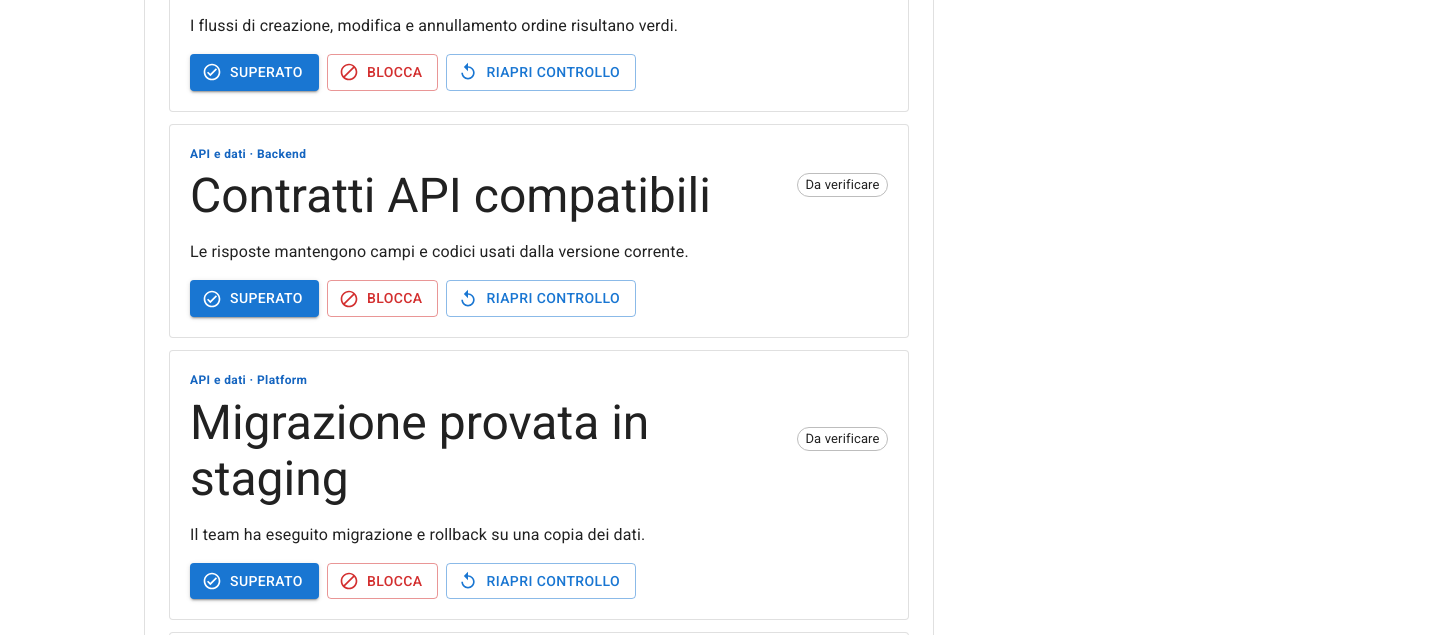
Test case: filtra i controlli senza modificare la review
The image size is (1440, 635).
(page scrolled)
Click the button with aria-label "Segna come bloccato: Contratti API compatibili": point(383, 299) top-left (327, 280), bottom-right (438, 317)
(page scrolled)
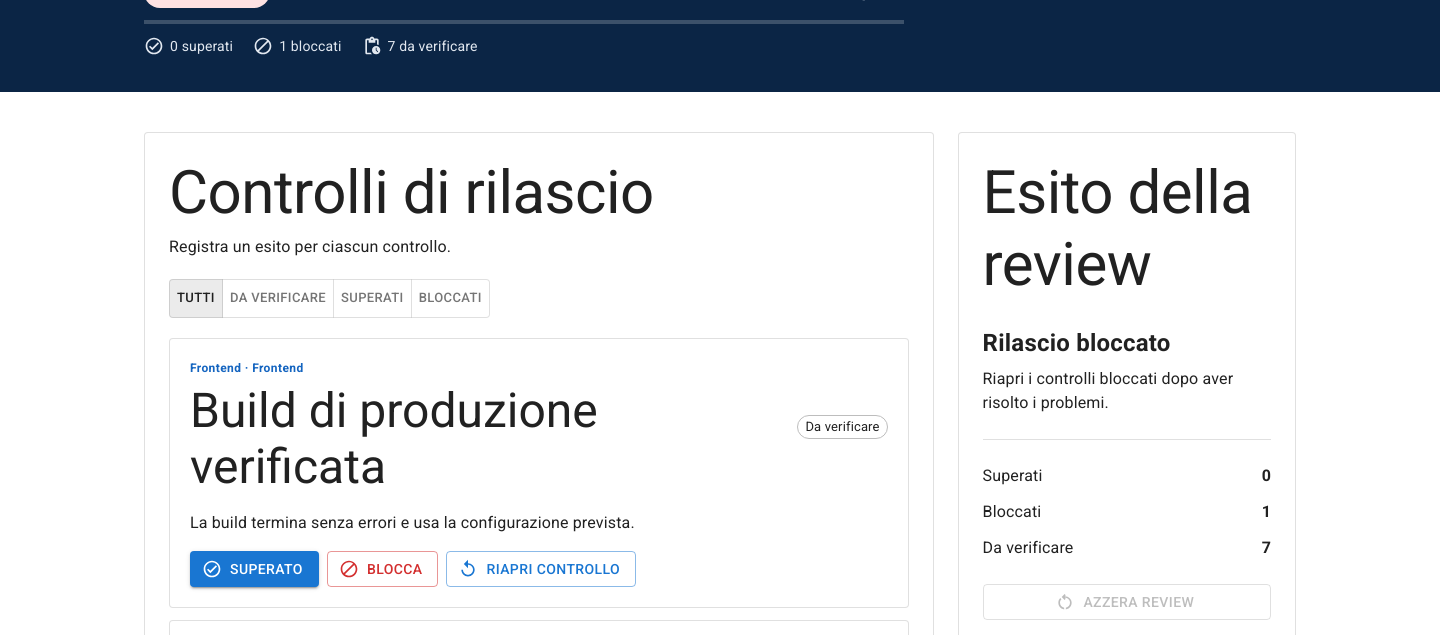
Click the button "Bloccati": point(450, 298) top-left (411, 279), bottom-right (490, 318)
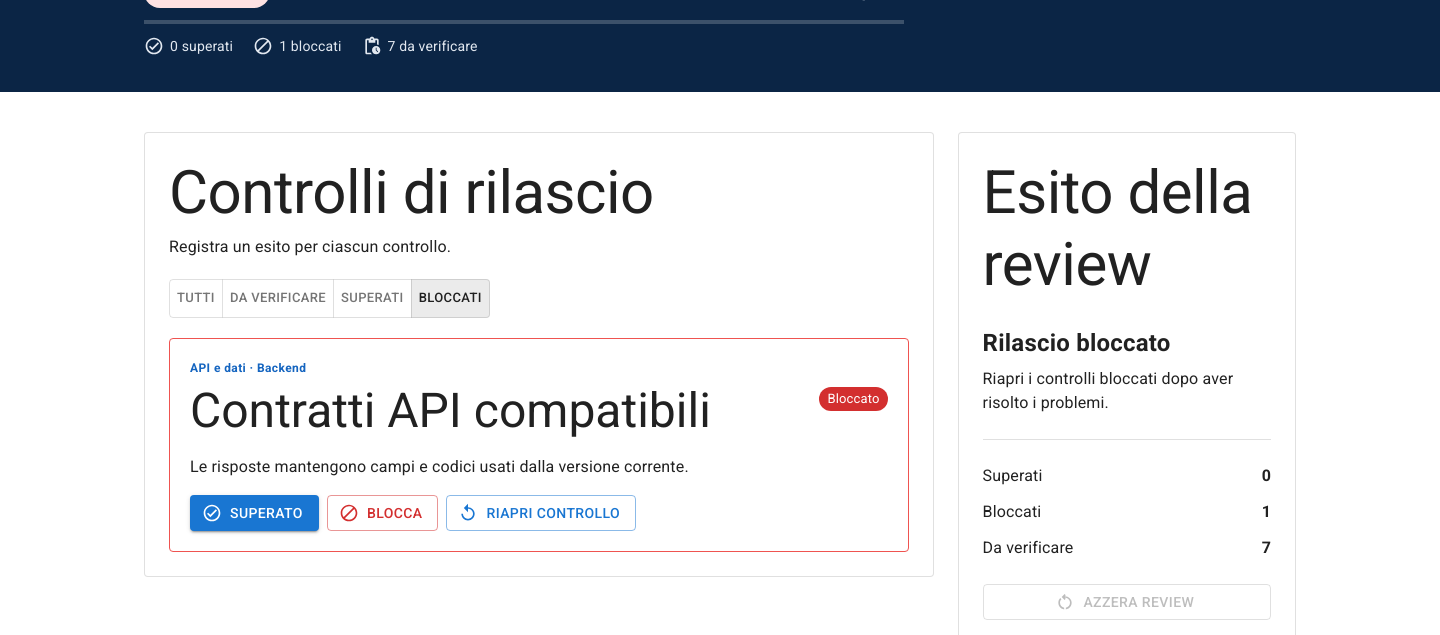
Expected: the heading "Contratti API compatibili" is shown, top-left (190, 383), bottom-right (711, 439)
Now the heading "Build di produzione verificata" is gone
